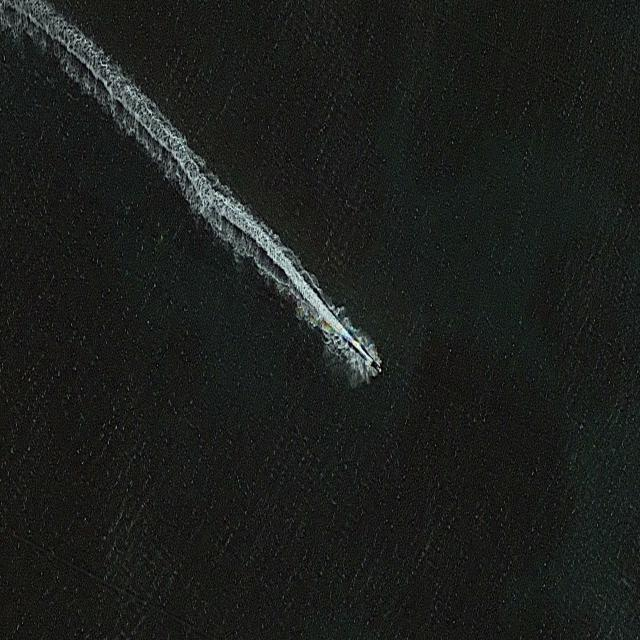ship: (369, 358, 383, 376)
